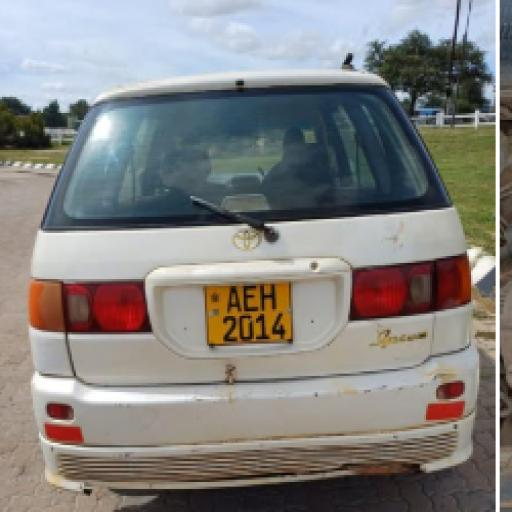number-plates: (206, 282, 290, 344)
